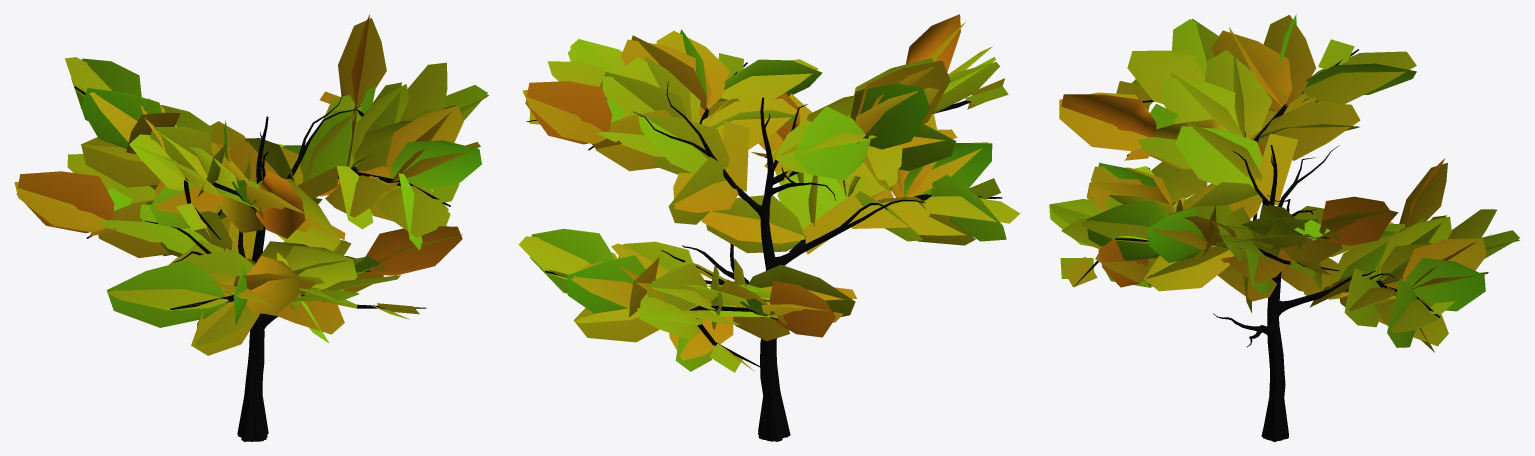
Rendered from Tree_small_2.glb.
The picture shows the model from 3 angles, left to right: view 1: azimuth 30°, elevation 25°; view 2: azimuth 150°, elevation 25°; view 3: azimuth 270°, elevation 25°; orthographic projection. The views are drawn at different scales.
Visible parts, largest first — view 1: Tree small 2; view 2: Tree small 2; view 3: Tree small 2.
Part boxes in pixels (x1,y1,x2,y2): Tree small 2: [14, 15, 488, 441]; Tree small 2: [518, 14, 1020, 441]; Tree small 2: [1049, 14, 1519, 441].
Size of what is drawn, in the model's own units: 16.86 by 15.28 by 18.6.
